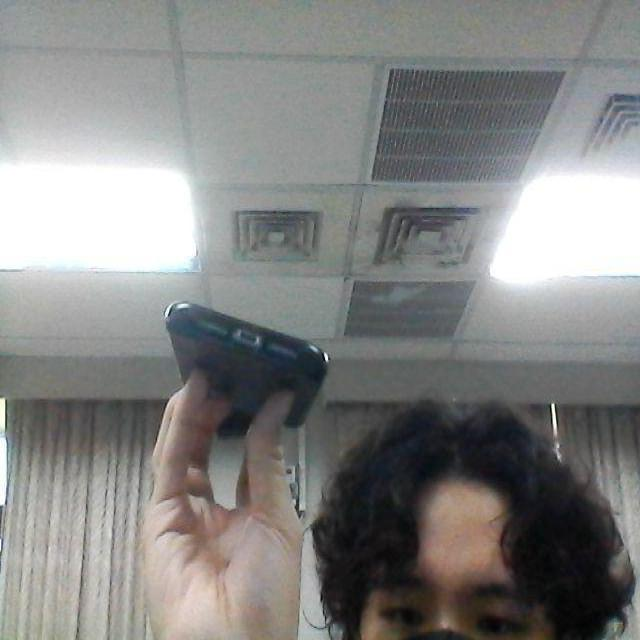mobile: (161, 301, 329, 439)
